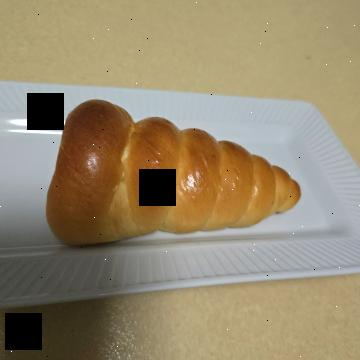cream horn: (86, 34, 272, 320)
